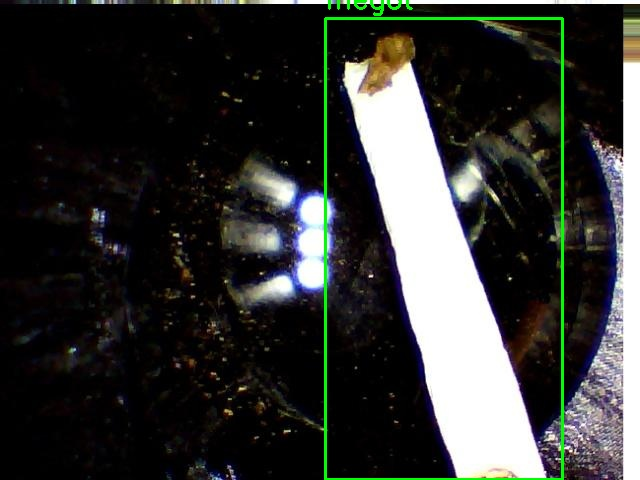megot: (325, 18, 562, 479)
